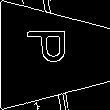P_E: (31, 37, 79, 73)
